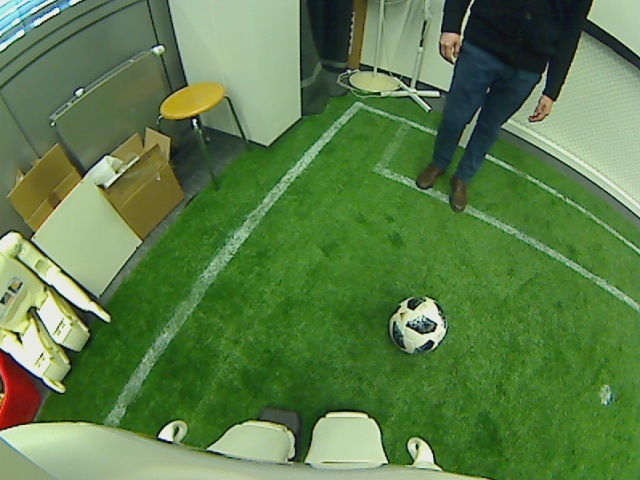ball: (389, 295, 448, 355)
